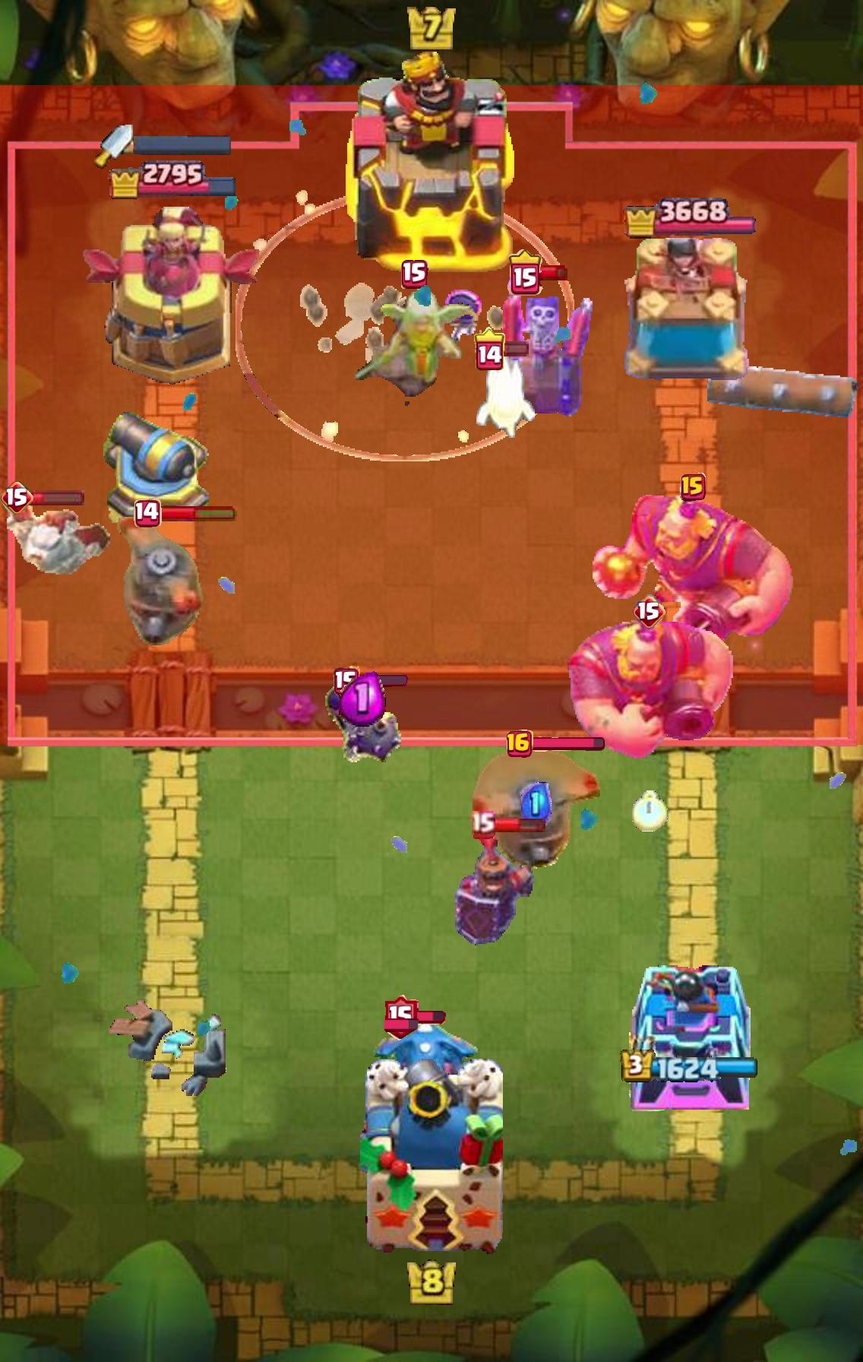bar: (157, 504, 238, 522), (529, 736, 604, 752), (29, 489, 85, 506), (492, 816, 546, 833), (356, 674, 408, 688), (539, 264, 568, 281), (501, 340, 529, 357), (414, 1011, 446, 1025)
bar-level: (508, 249, 544, 295), (384, 995, 418, 1041), (474, 327, 505, 371), (632, 594, 667, 629), (0, 481, 33, 516), (333, 665, 360, 697), (133, 497, 161, 527), (401, 259, 428, 290), (506, 729, 533, 757), (680, 473, 706, 502), (469, 810, 495, 839)
